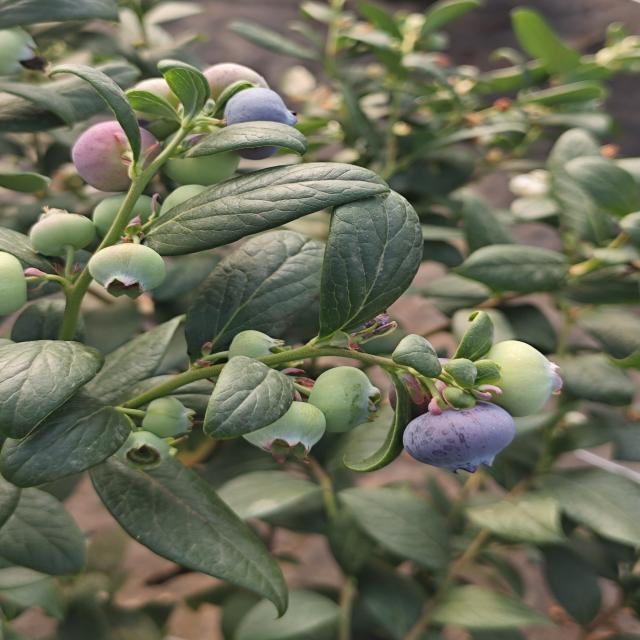ripe: (397, 392, 517, 477), (222, 81, 304, 162)
